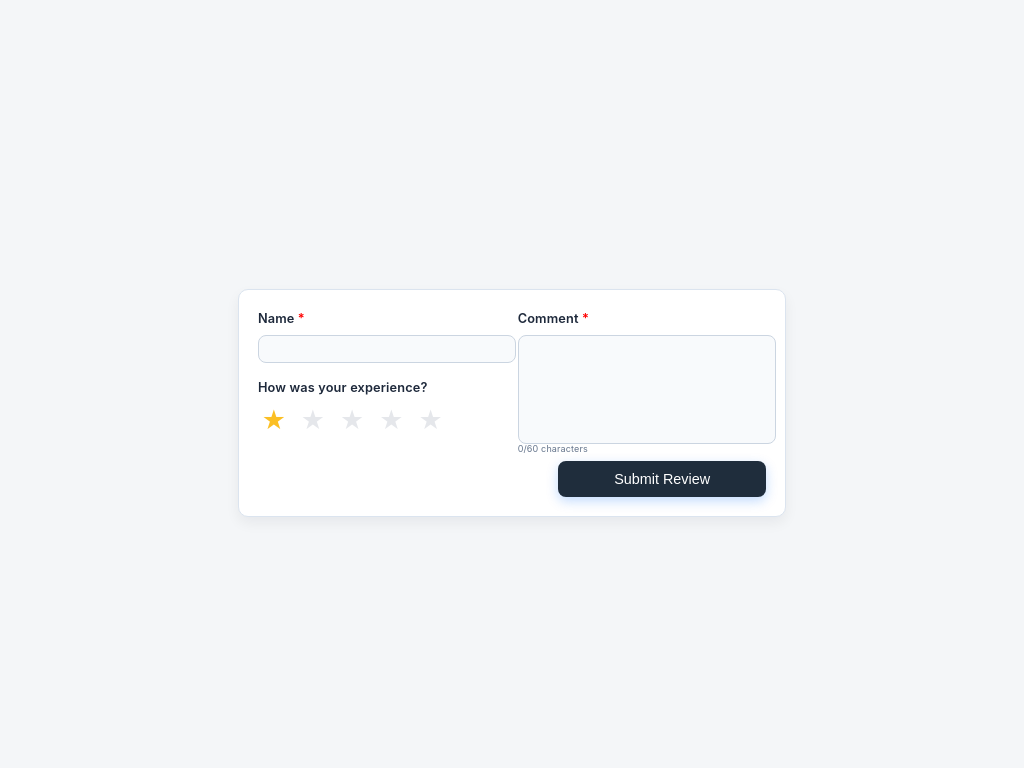
Scenario: ReviewForm › disables submit button while submitting
The width and height of the screenshot is (1024, 768).
In the field labelled "Name": (387, 349) [258,335,516,363], type "John"
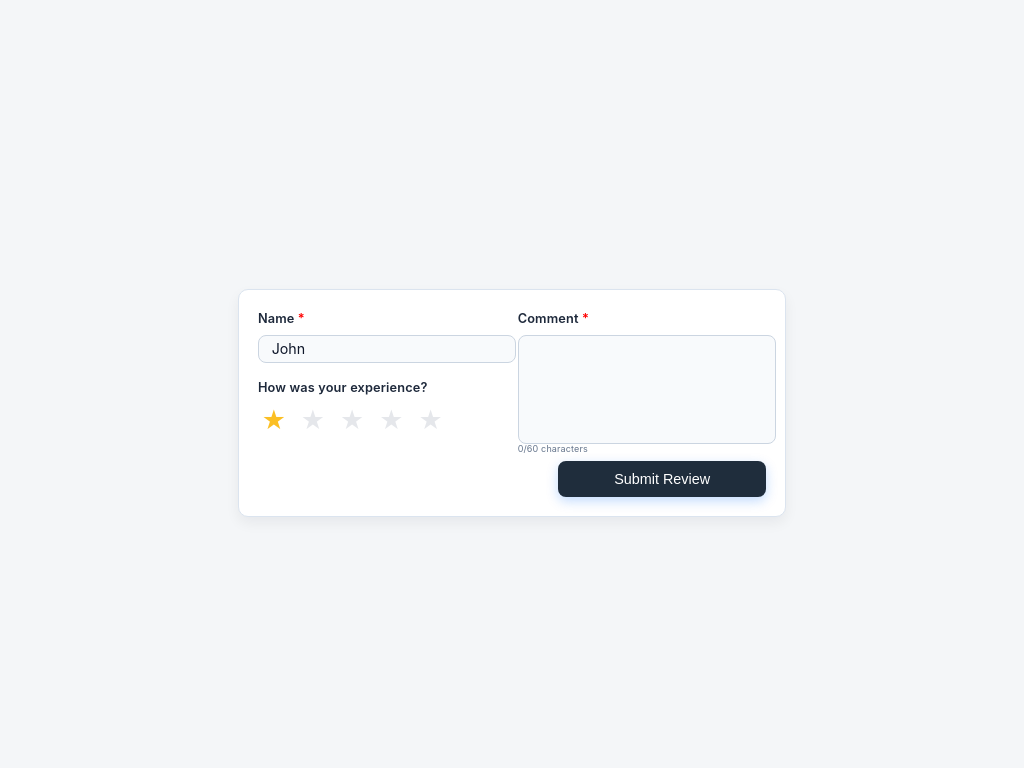
In the text box labelled "Comment": (647, 389) [518,335,776,444], type "Great product!"
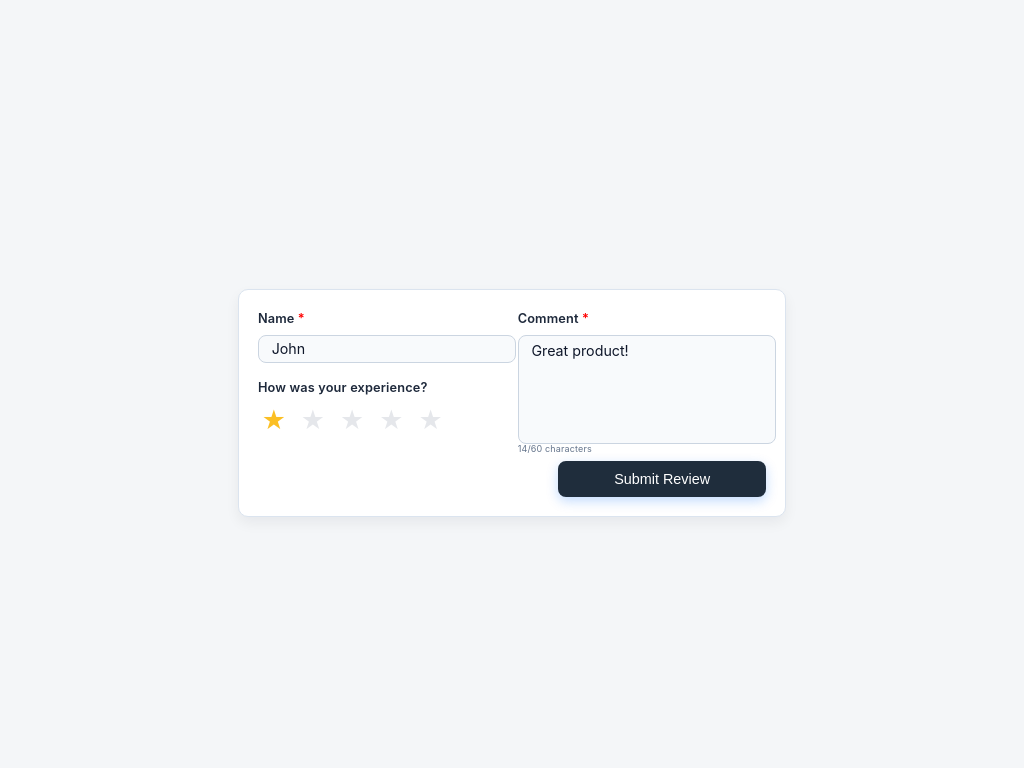
Click the button "Submit Review": (662, 479) [558,461,766,497]
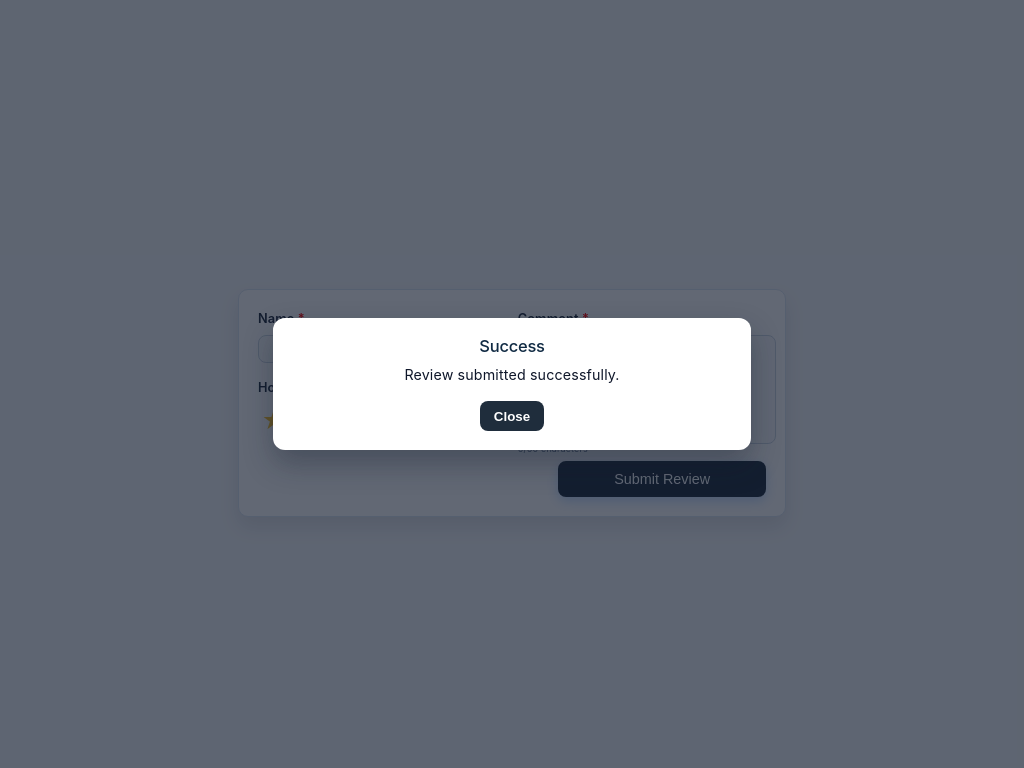
Expected: the dialog is shown
Expected: the text "Review submitted successfully." is shown, [404,366,620,383]
